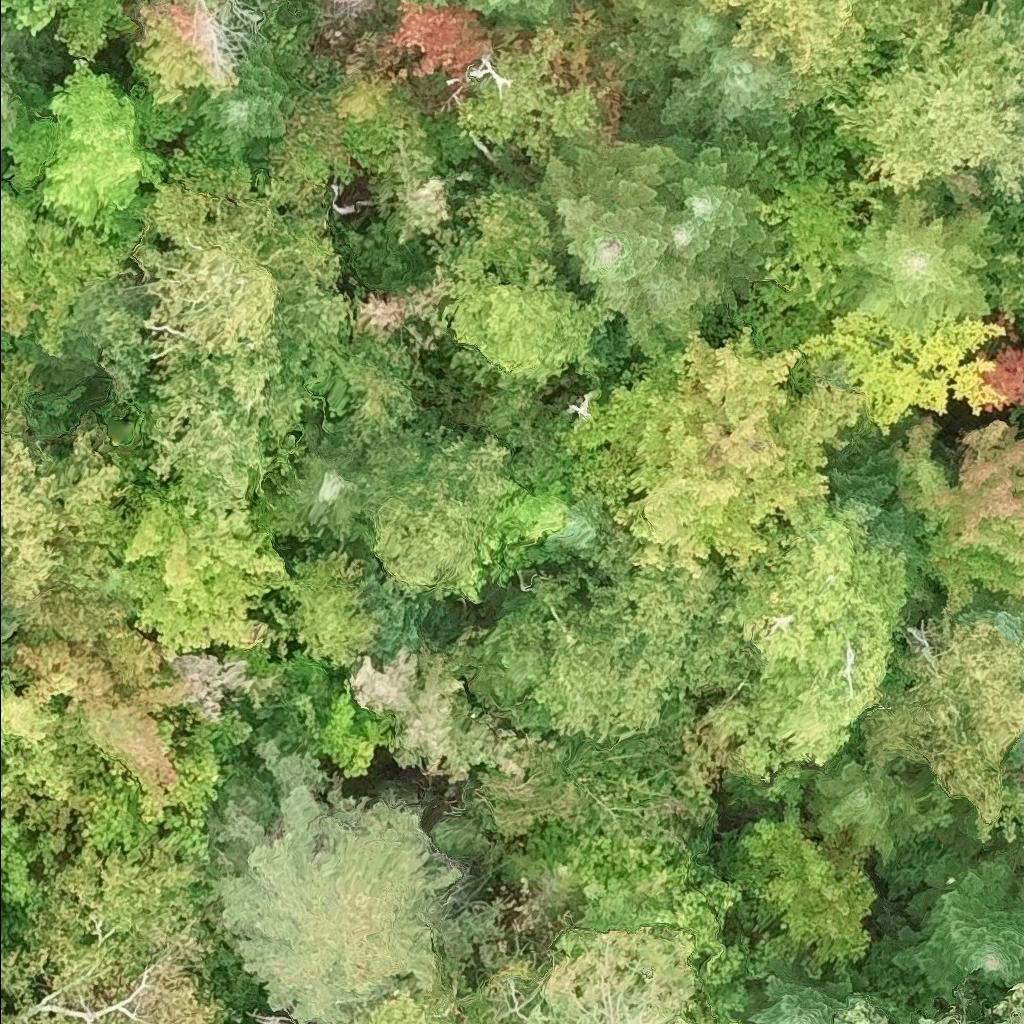crown: (133, 179, 420, 507), (565, 325, 868, 589), (204, 730, 463, 1023), (711, 497, 910, 784), (529, 560, 759, 746), (820, 0, 1023, 200), (858, 614, 1023, 844), (98, 486, 296, 666), (14, 623, 188, 826), (2, 837, 210, 1005), (343, 623, 547, 787), (351, 412, 520, 602), (0, 403, 144, 615), (2, 59, 167, 244), (871, 826, 1023, 1023), (533, 124, 678, 314), (892, 409, 1023, 614), (727, 796, 875, 975), (486, 926, 749, 1023), (438, 255, 615, 389), (729, 0, 924, 121), (852, 182, 1012, 326), (13, 212, 146, 372), (455, 26, 599, 171), (651, 130, 774, 270), (185, 37, 310, 172), (453, 474, 578, 604), (757, 173, 864, 315), (802, 750, 931, 867), (656, 44, 798, 148), (819, 416, 923, 553), (265, 410, 368, 540), (276, 545, 381, 669), (0, 668, 88, 814), (619, 253, 736, 361), (119, 915, 229, 1023), (456, 172, 562, 279), (659, 188, 759, 297), (734, 957, 861, 1023), (314, 677, 396, 778), (361, 558, 439, 657), (76, 768, 161, 857), (0, 182, 56, 301), (527, 490, 611, 565), (664, 0, 741, 73), (168, 740, 222, 826), (950, 585, 1023, 648), (0, 817, 38, 910), (0, 0, 78, 35), (0, 281, 42, 337), (465, 0, 571, 21), (0, 45, 17, 149), (982, 982, 1023, 1023), (836, 997, 894, 1023), (0, 1007, 85, 1023), (0, 595, 21, 651), (1002, 728, 1023, 770), (705, 0, 751, 18), (1004, 0, 1023, 39), (1006, 182, 1023, 214), (1014, 91, 1023, 134), (961, 0, 985, 15), (0, 369, 8, 408), (919, 1017, 967, 1023), (0, 331, 11, 350), (989, 0, 997, 10), (994, 0, 999, 7), (1021, 71, 1023, 84), (1023, 270, 1023, 276)
